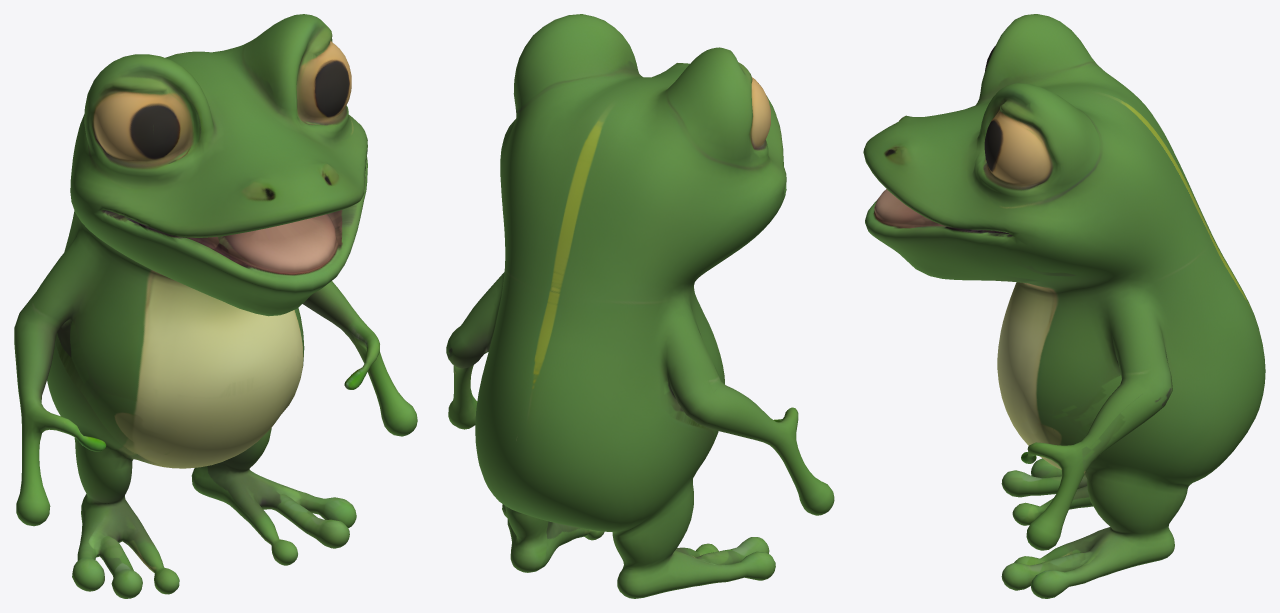
The model's file is cartoon_frog_wide_eyes_big_smile..glb.
The picture shows the model from 3 angles, left to right: view 1: azimuth 30°, elevation 25°; view 2: azimuth 150°, elevation 25°; view 3: azimuth 270°, elevation 25°; orthographic projection. The views are drawn at different scales.
Visible parts, largest first — view 1: Object_2; view 2: Object_2; view 3: Object_2.
Boxes of the visible parts, x1,y1,x2,y2 form: Object_2: [14, 14, 417, 598]; Object_2: [446, 14, 834, 598]; Object_2: [863, 14, 1265, 598].
Size of the model in its own units: 1.33 by 1.73 by 1.26.
1 material, 1 textured.
